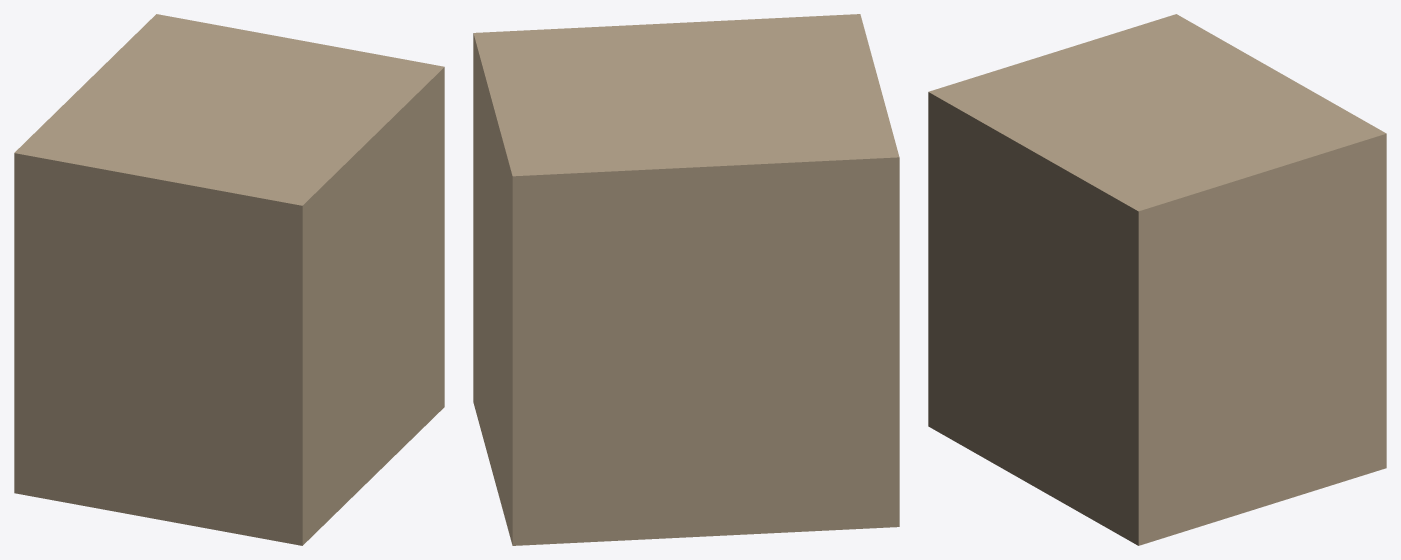
File: bld_105794256.dae
The picture shows the model from 3 angles, left to right: view 1: azimuth 30°, elevation 25°; view 2: azimuth 150°, elevation 25°; view 3: azimuth 270°, elevation 25°; orthographic projection. The views are drawn at different scales.
Parts seen in each view (by area): view 1: bld_105794256; view 2: bld_105794256; view 3: bld_105794256.
Boxes of the visible parts, left/top/right/bottom form: bld_105794256: left=14, top=14, right=444, bottom=545; bld_105794256: left=473, top=14, right=899, bottom=545; bld_105794256: left=928, top=14, right=1386, bottom=545.
Bounding box in the file's own units: 10.12 × 9.94 × 8.
